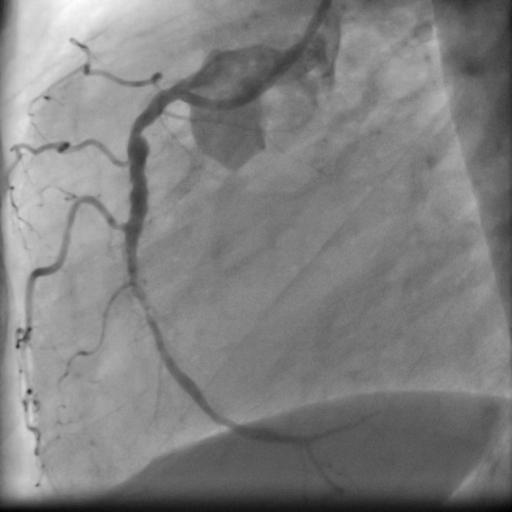Stenosis: (129, 109, 146, 139)
